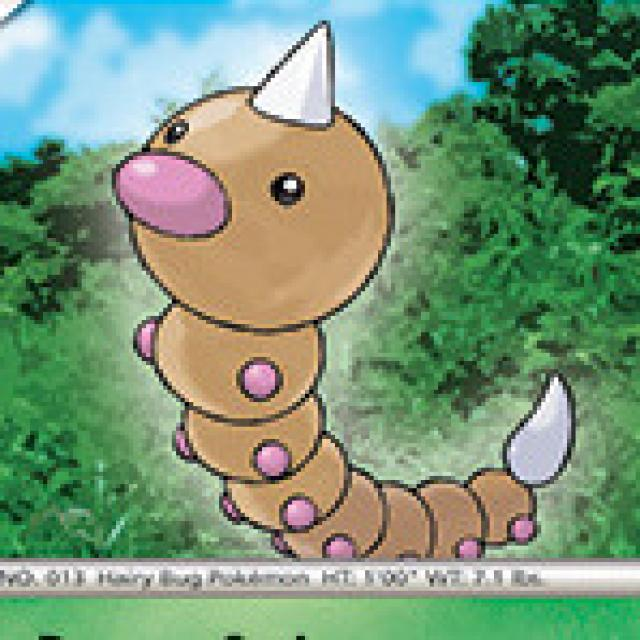Weedle: (113, 20, 480, 562)
